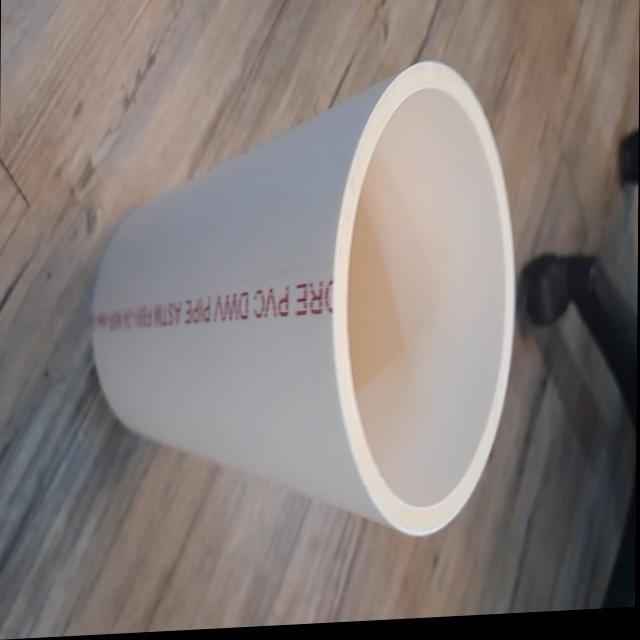CORAL: (83, 44, 525, 561)
